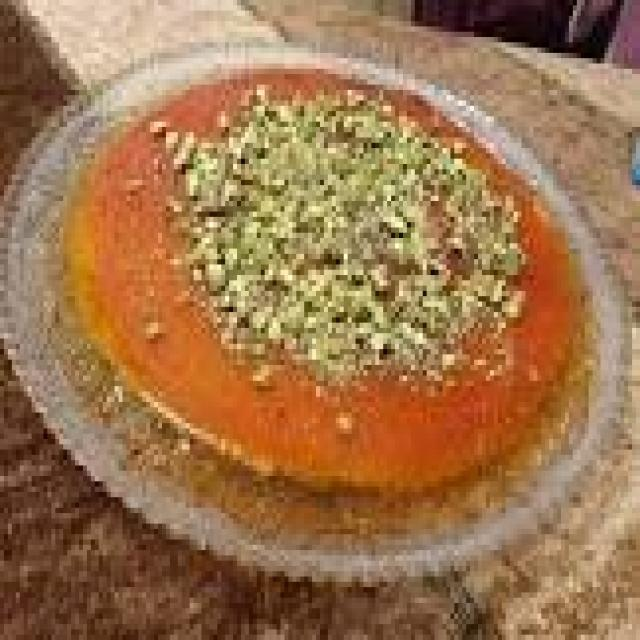konafa: (46, 37, 611, 530)
